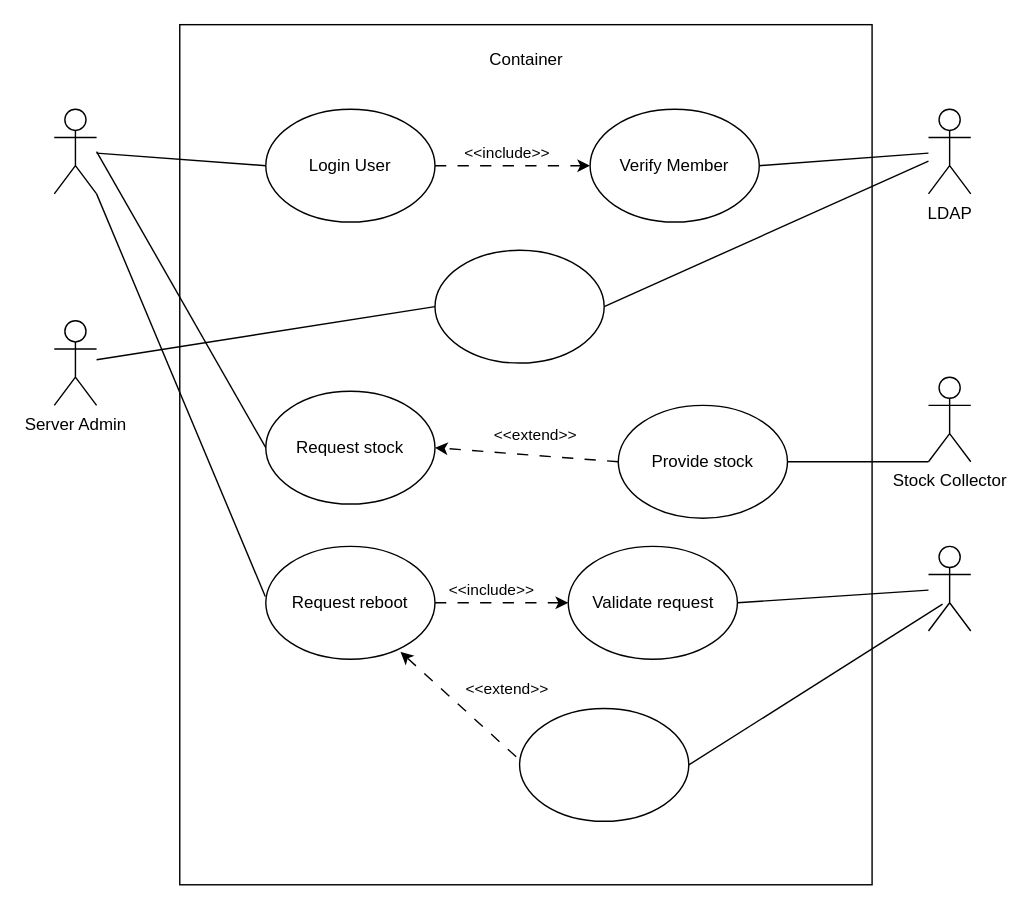
Some shapes in this 1031 by 909 pixel diagram are drawn without their labels. Each missing label, with the centre of its shape:
"Adjust permissions via JSON" goes at point (519, 306).
"Execute request" goes at point (603, 764).
"Provider" goes at point (949, 588).
"User" goes at point (75, 151).
